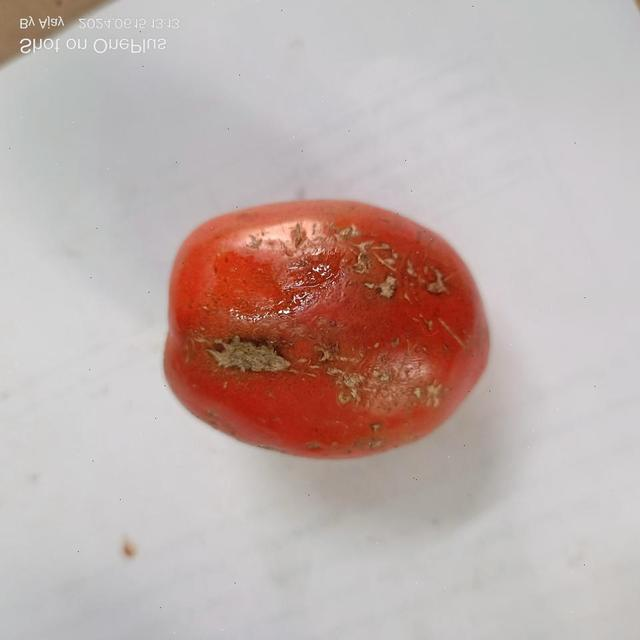Bacterial Spot Fruit: (64, 34, 252, 252)
